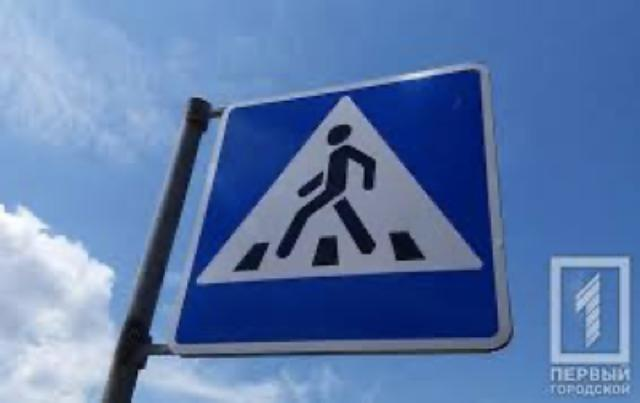crosswalk-sign: (170, 62, 515, 358)
